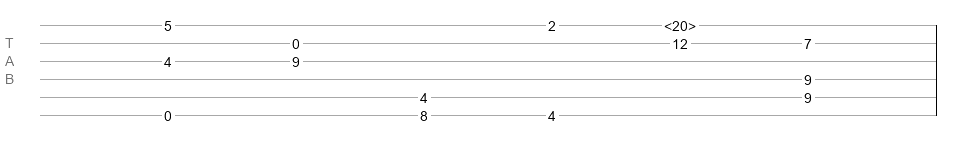0: (164, 108, 172, 118), (292, 36, 300, 46)
12: (672, 36, 688, 46)
2: (548, 18, 556, 28)
4: (164, 54, 172, 64), (420, 90, 428, 100), (548, 108, 556, 118)
5: (164, 18, 172, 28)
7: (804, 36, 812, 46)
8: (420, 108, 428, 118)
9: (292, 54, 300, 64), (804, 90, 812, 100), (804, 72, 812, 82)
harmonic: (664, 18, 696, 28)
